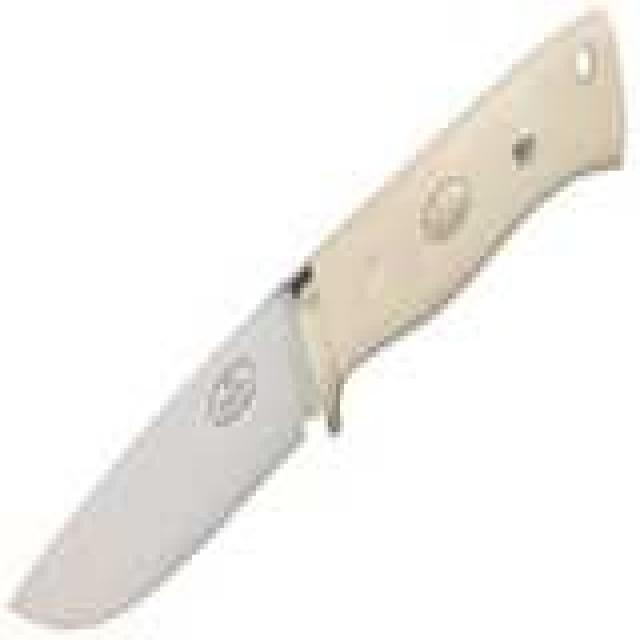Knife: (8, 7, 627, 637)
